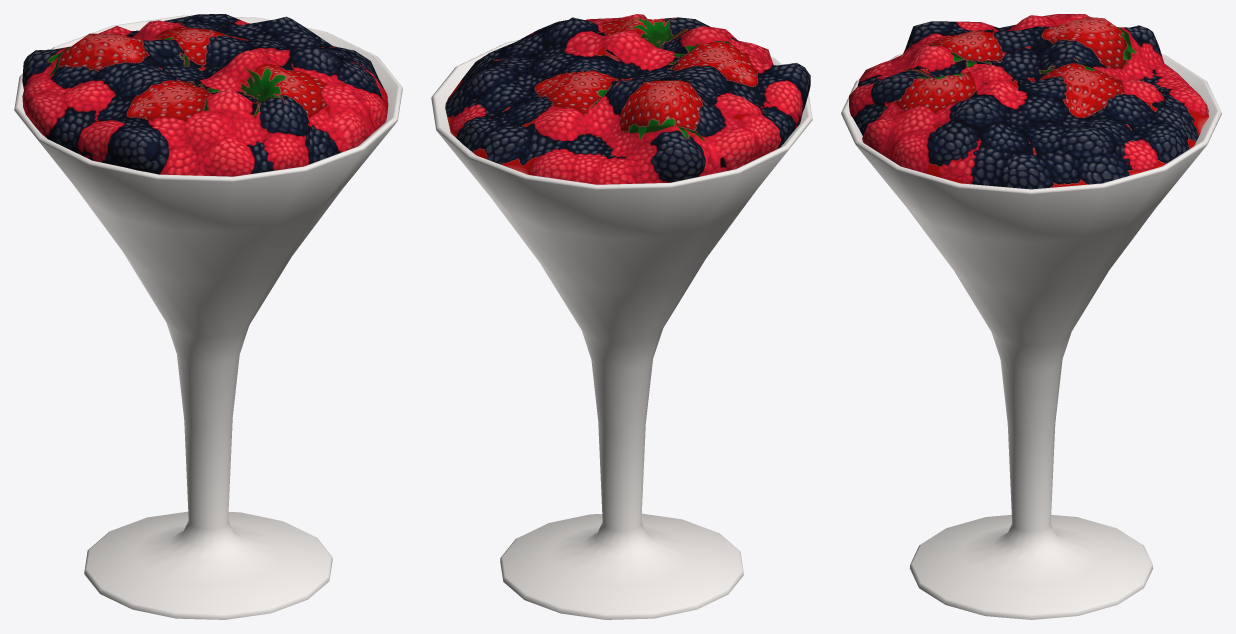
Rendered from BuffetBarries01_3.FBX.
3 renders of one model, left to right at view 1: azimuth 30°, elevation 25°; view 2: azimuth 150°, elevation 25°; view 3: azimuth 270°, elevation 25°, orthographic. The views are drawn at different scales.
Parts seen in each view (by area): view 1: BuffetBarries01_3; view 2: BuffetBarries01_3; view 3: BuffetBarries01_3.
Part boxes in pixels (box(x1,y1,x2,y2)): BuffetBarries01_3: box(14, 14, 402, 619); BuffetBarries01_3: box(431, 14, 812, 619); BuffetBarries01_3: box(841, 14, 1221, 619).
Size of what is drawn, in the model's own units: 0.2503 by 0.3713 by 0.2503.
